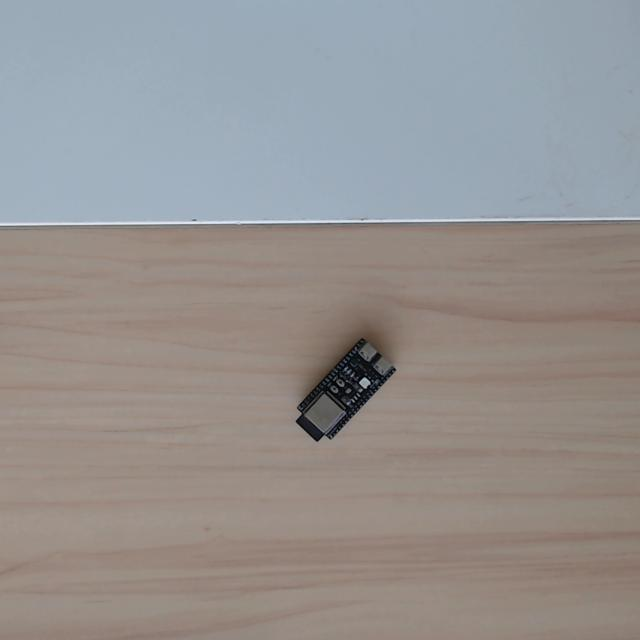ESP32S3-Devkit: (286, 337, 399, 451)
